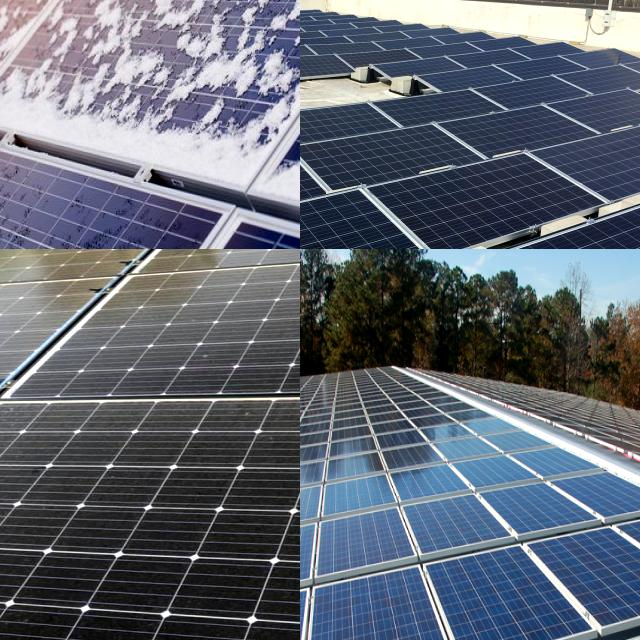crack: (37, 487, 298, 640), (67, 275, 300, 405), (133, 420, 300, 590), (356, 150, 631, 249), (396, 523, 594, 640), (307, 545, 459, 640), (300, 176, 495, 249), (426, 99, 606, 174), (300, 508, 452, 596), (300, 126, 476, 192), (300, 576, 474, 640), (551, 128, 640, 208), (300, 117, 411, 170), (300, 104, 400, 148)
panel: (0, 90, 279, 188), (144, 0, 300, 64), (32, 0, 134, 75), (0, 0, 132, 51), (143, 0, 247, 51), (141, 0, 266, 29), (0, 0, 46, 55), (0, 68, 24, 117)
